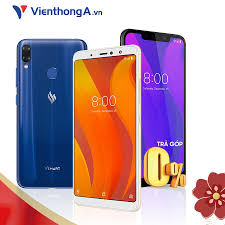vsmart: (70, 46, 143, 213), (117, 28, 190, 195), (15, 35, 88, 191)
